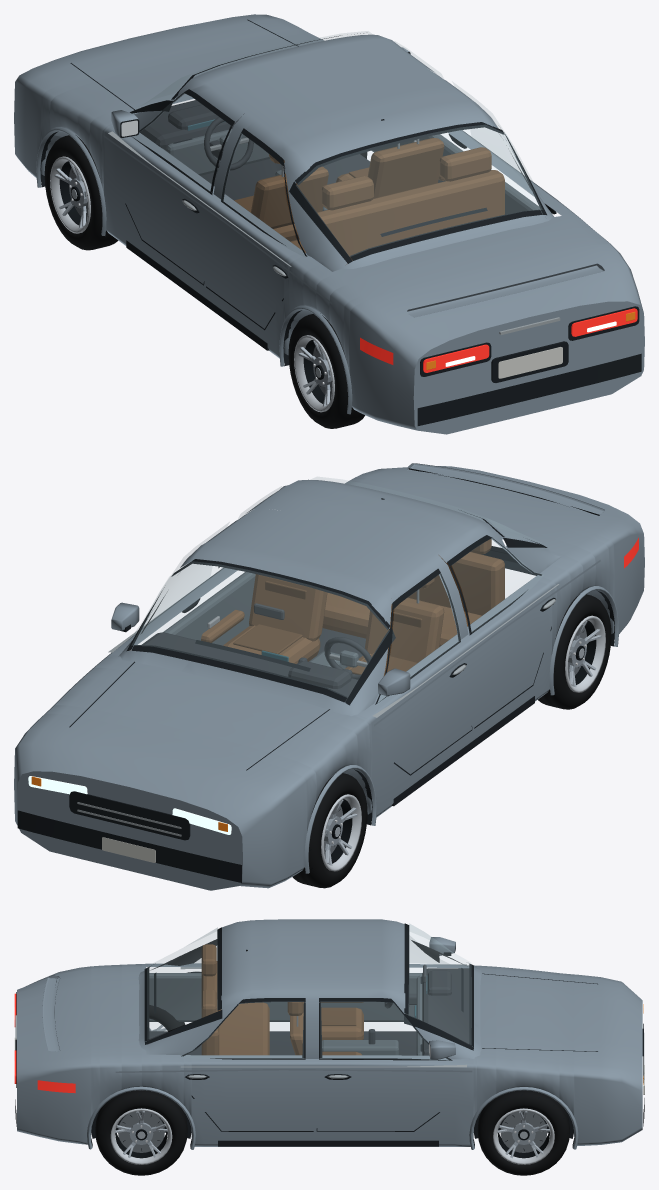
File: sedan.glb
3 views of the same model, one above another, from view 1: azimuth 30°, elevation 25°; view 2: azimuth 150°, elevation 25°; view 3: azimuth 270°, elevation 25° (orthographic). The views are drawn at different scales.
Parts seen in each view (by area): view 1: body, glass, cabin_interior, trim, wheel_rl_rubber, wheel_fl_rubber, lights_red, wheel_fl_wheel_metal, wheel_rl_wheel_metal, plate, alloy; view 2: body, glass, cabin_interior, trim, wheel_fl_rubber, wheel_rl_rubber, wheel_rl_wheel_metal, wheel_fl_wheel_metal, alloy, lights_white, plate; view 3: body, glass, cabin_interior, trim, wheel_fr_rubber, wheel_rr_rubber, wheel_rr_wheel_metal, wheel_fr_wheel_metal, alloy, lights_red, wheel_rl_rubber, wheel_rr_wheel_recess (+1 smaller).
Boxes of the visible parts, x1,y1,x2,y2 form: body: (14,14,644,434); glass: (132,31,542,256); cabin_interior: (139,100,542,264); trim: (40,19,641,425); wheel_rl_rubber: (288,313,364,428); wheel_fl_rubber: (44,135,118,250); lights_red: (360,308,637,372); wheel_fl_wheel_metal: (50,156,90,233); wheel_rl_wheel_metal: (294,335,334,412); plate: (498,347,562,378); alloy: (108,131,560,334); body: (14,463,644,890); glass: (129,477,543,703); cabin_interior: (140,539,531,701); trim: (17,468,614,882); wheel_fl_rubber: (292,773,367,888); wheel_rl_rubber: (538,594,611,709); wheel_rl_wheel_metal: (565,615,605,692); wheel_fl_wheel_metal: (321,794,361,871); alloy: (77,584,558,836); lights_white: (28,776,231,834); plate: (102,837,155,862); body: (17,919,642,1149); glass: (147,923,471,1060); cabin_interior: (147,939,470,1055); trim: (15,923,644,1147); wheel_fr_rubber: (477,1090,569,1175); wheel_rr_rubber: (95,1090,187,1175); wheel_rr_wheel_metal: (110,1108,172,1164); wheel_fr_wheel_metal: (493,1108,554,1164); alloy: (15,964,644,1079); lights_red: (14,993,75,1093); wheel_rl_rubber: (149,1005,185,1031); wheel_rr_wheel_recess: (95,1092,186,1162).
Bounding box in the file's own units: 1.94 × 1.45 × 4.65.
